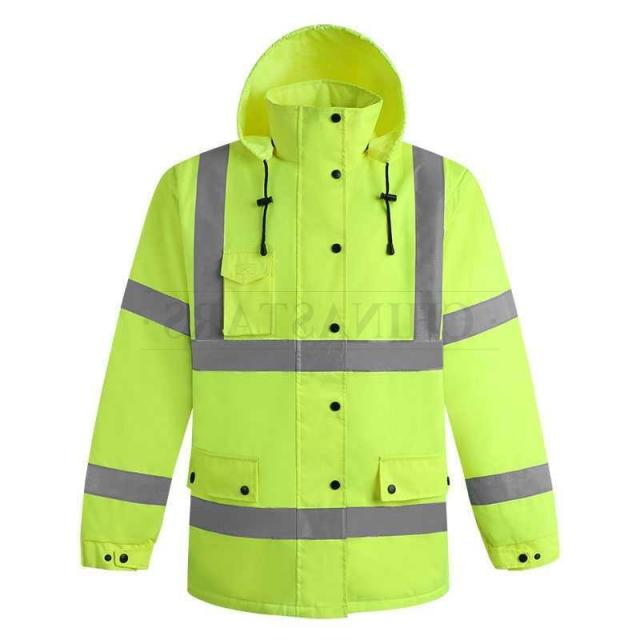Reflective-Jacket: (58, 118, 570, 621)
